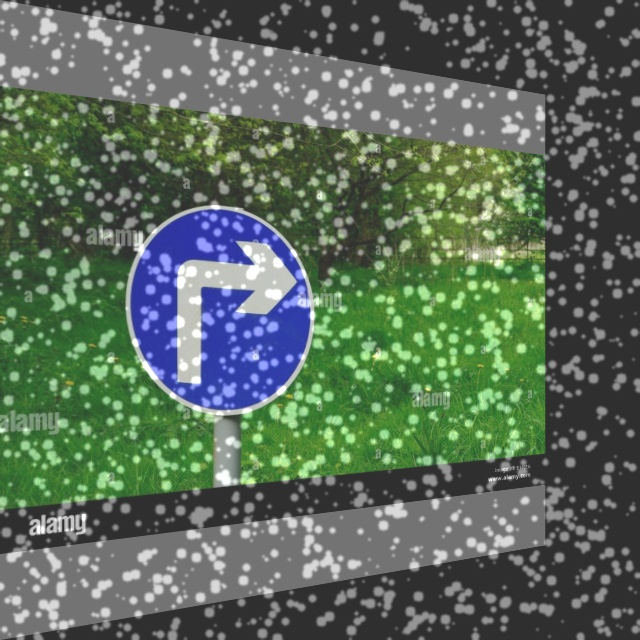Compulsory_Turn_Right_Ahead: (124, 195, 317, 423)
